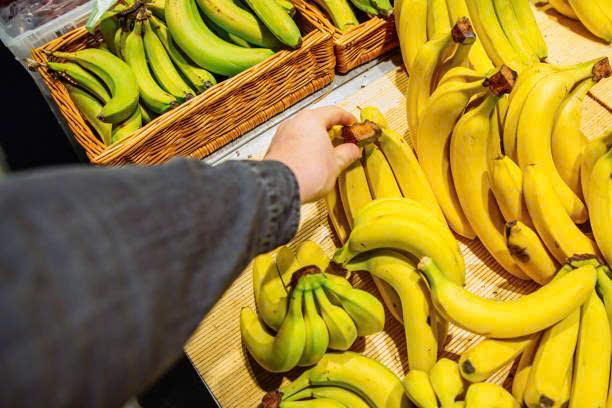banana: (405, 18, 610, 273), (409, 255, 608, 349)
